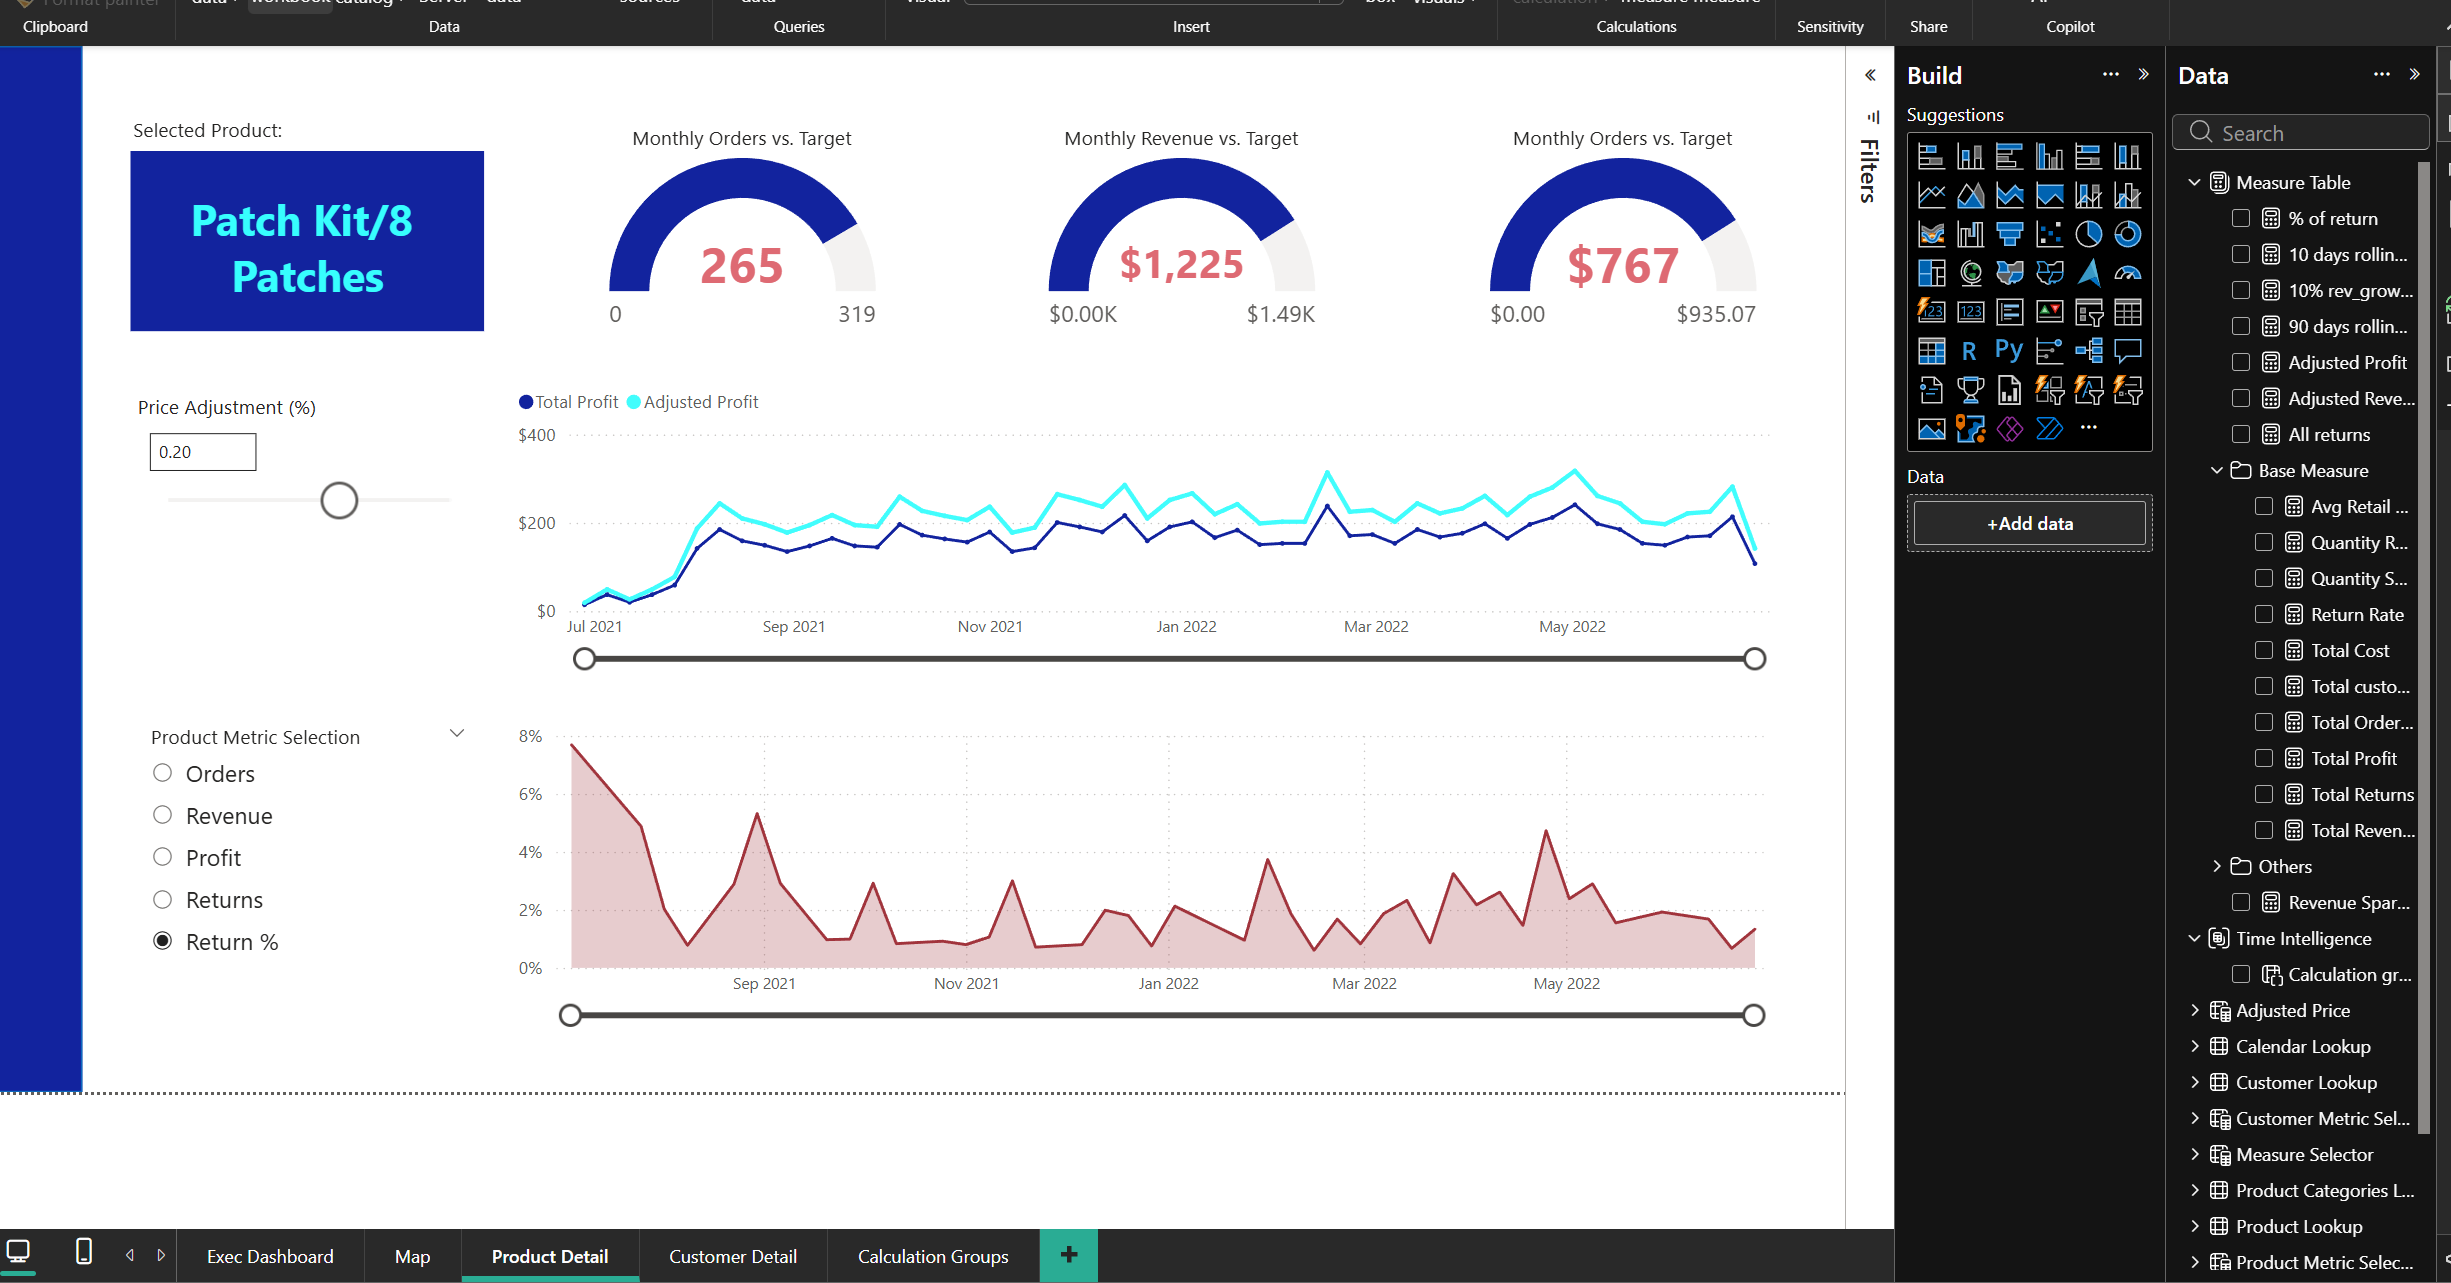

The dashboard page shown, as its layout file describes it:
{"tool":"powerbi","page":{"name":"Product  Detail","canvas":[1280,720],"ordinal":2},"visuals":[{"type":"shape","title":"Left Nav Background","box":[0,0,67,720],"z":0},{"type":"gauge","title":"Monthly Orders  vs. Target","fields":{"Y":["Measure Table.Total Ordered"],"MaxValue":["Measure Table.Order Target"]},"box":[402.4,53.2,236.8,151],"z":1000},{"type":"gauge","title":"Monthly Revenue  vs. Target","fields":{"Y":["Measure Table.Total Revenue"],"MaxValue":["Measure Table.Revenue Target"]},"box":[702,53.2,242.9,151],"z":2000},{"type":"gauge","title":"Monthly Orders  vs. Target","fields":{"Y":["Measure Table.Total Profit"],"MaxValue":["Measure Table.Profit Target"]},"box":[1007.7,53.2,239.2,151],"z":3000},{"type":"lineChart","title":"Profit Trend","fields":{"Category":["Calendar Lookup.Year","Calendar Lookup.Start of Quarter","Calendar Lookup.Start of Month","Calendar Lookup.Start of Week","Calendar Lookup.Date"],"Y":["Measure Table.Total Profit","Measure Table.Adjusted Profit"]},"box":[361.5,225,885.4,207.5],"z":4000},{"type":"areaChart","title":"Returns Trend","fields":{"Y":["Measure Table.Return Rate"],"Category":["Calendar Lookup.Year","Calendar Lookup.Start of Quarter","Calendar Lookup.Start of Month","Calendar Lookup.Start of Week","Calendar Lookup.Date"]},"box":[361.5,460.2,885.4,217.7],"z":5000},{"type":"card","fields":{"Values":["Min(Product Lookup.ProductName)"]},"box":[100,72,243,124],"z":6000},{"type":"textbox","box":[96.7,42.7,143.8,29],"z":7000},{"type":"slicer","title":"Price Adjustment (%)","fields":{"Values":["Adjusted Price.Adjusted Price"]},"box":[100.5,238.9,242.6,120.8],"z":8000},{"type":"slicer","fields":{"Values":["Product Metric Selection.Product Metric Selection"]},"box":[101.2,460.4,241.5,186.8],"z":9000}]}

Visuals, with their boxes on the page's 1280x720 design canvas (x1, y1, x2, y2). These are canvas units, not pixel positions in the 2451x1283 screenshot, which may show the page scaled, cropped or inside an application window:
"Left Nav Background" shape: box=[0, 0, 67, 720]
"Monthly Orders  vs. Target" gauge: box=[402, 53, 639, 204]
"Monthly Revenue  vs. Target" gauge: box=[702, 53, 945, 204]
"Monthly Orders  vs. Target" gauge: box=[1008, 53, 1247, 204]
"Profit Trend" lineChart: box=[362, 225, 1247, 432]
"Returns Trend" areaChart: box=[362, 460, 1247, 678]
card - Min(Product Lookup.ProductName): box=[100, 72, 343, 196]
textbox: box=[97, 43, 240, 72]
"Price Adjustment (%)" slicer: box=[100, 239, 343, 360]
slicer - Product Metric Selection.Product Metric Selection: box=[101, 460, 343, 647]
